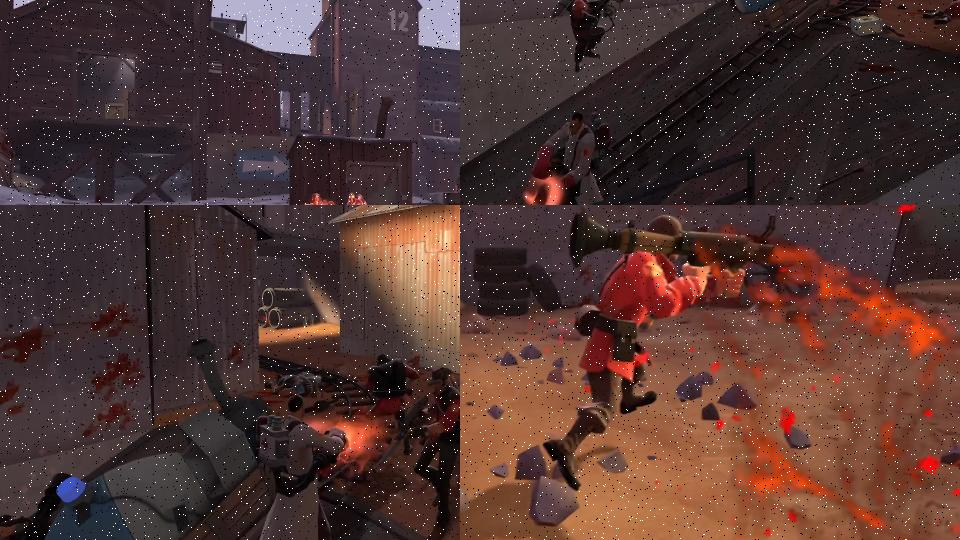Enemy: (543, 205, 779, 494), (370, 368, 460, 540), (251, 393, 351, 540), (524, 110, 615, 205), (549, 0, 631, 73), (363, 353, 421, 455), (0, 470, 75, 540), (922, 0, 960, 24), (341, 191, 374, 205)
